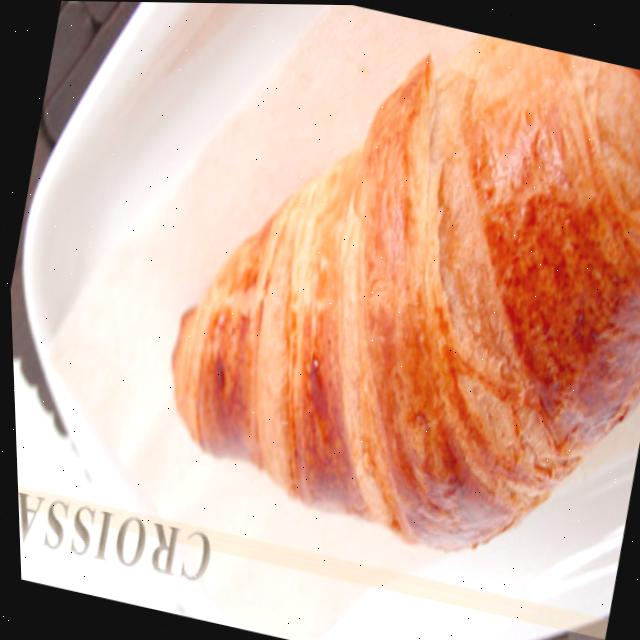面包点心: (123, 1, 640, 599)
